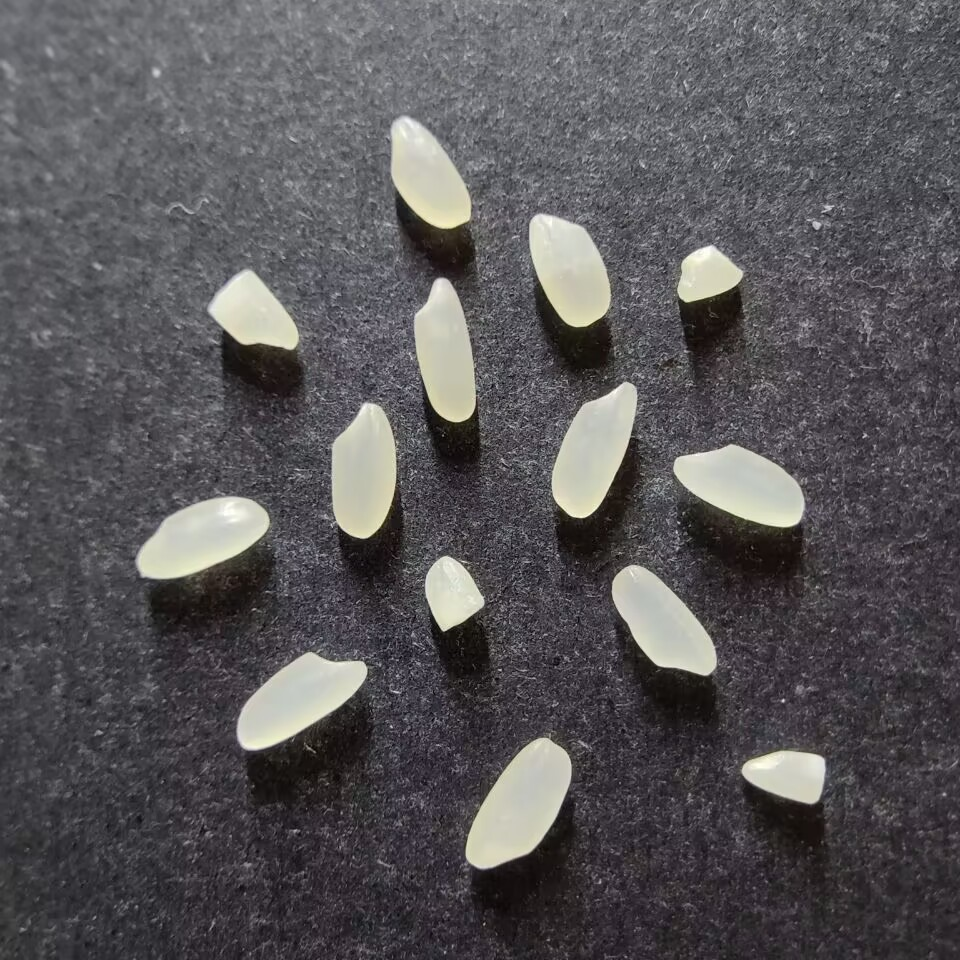broken: (208, 268, 299, 350), (424, 555, 485, 632), (740, 750, 825, 804), (676, 245, 743, 303)
rice: (464, 737, 572, 869), (236, 651, 367, 749), (551, 380, 637, 519), (611, 564, 717, 676), (136, 495, 269, 579), (672, 444, 804, 528), (528, 213, 611, 328), (412, 277, 476, 422), (389, 115, 470, 229), (330, 402, 397, 539)
